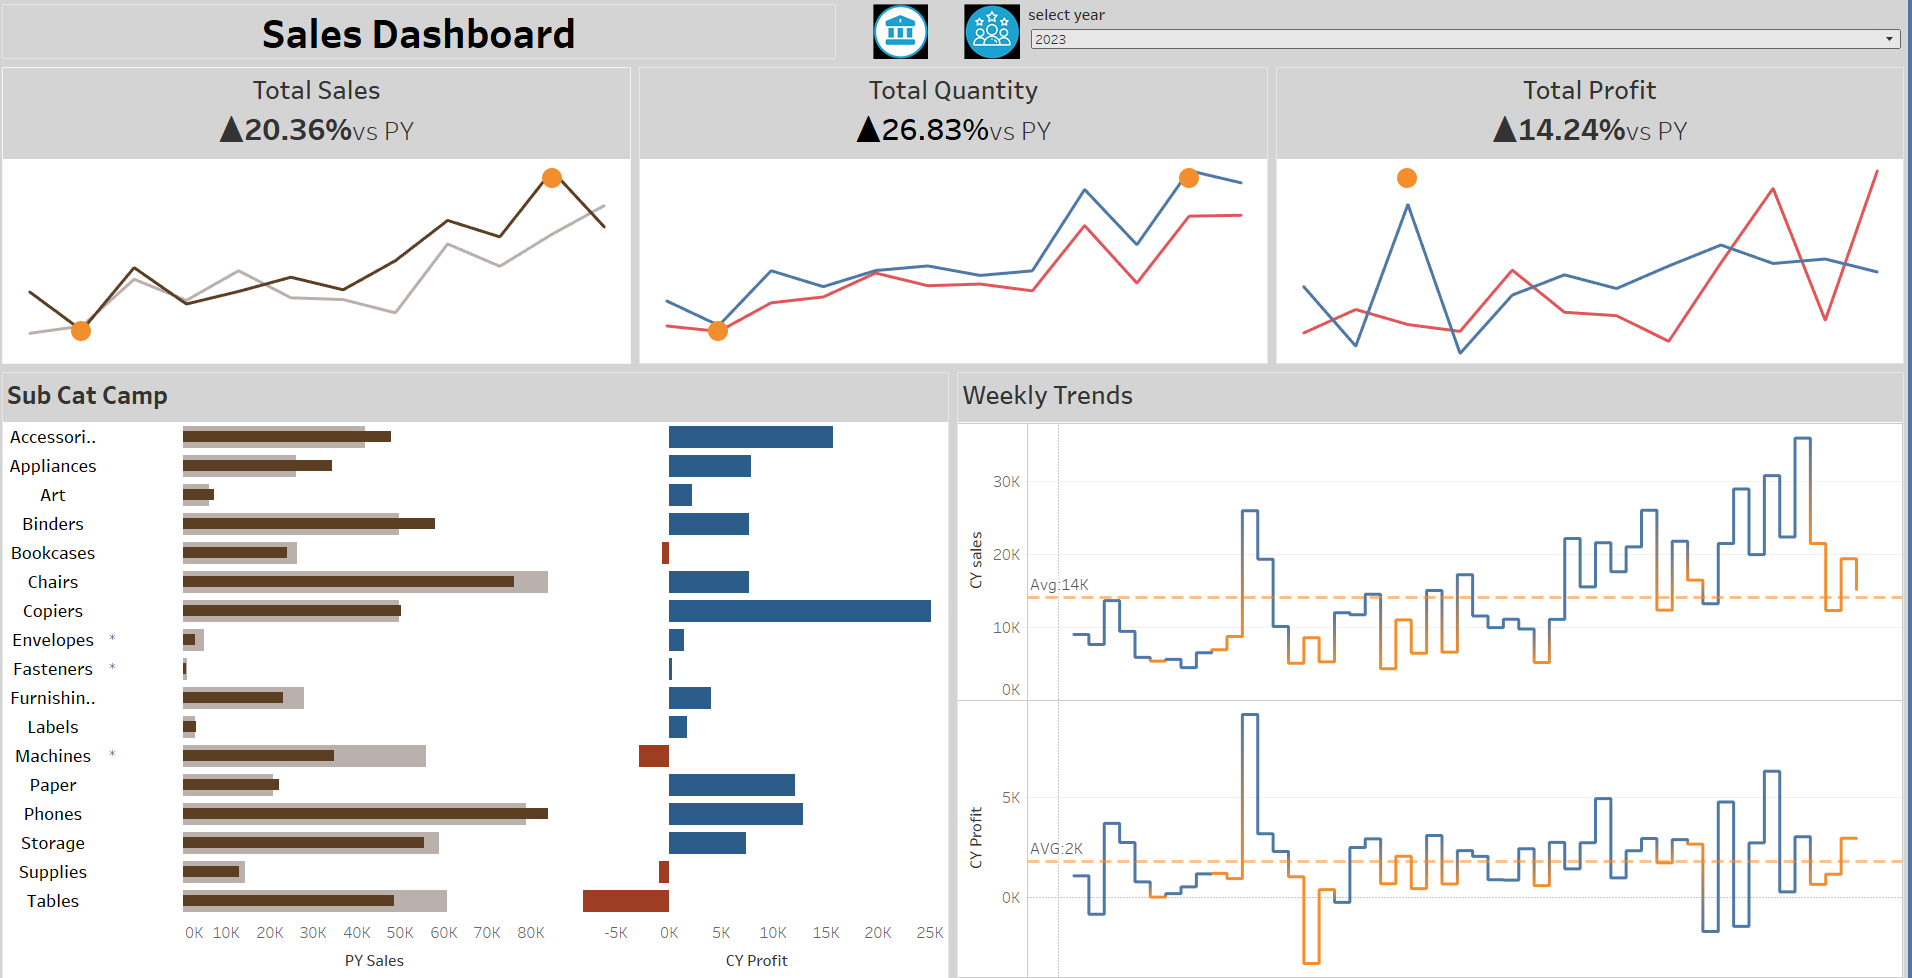

This screenshot's page, from the dashboard's own definition file:
{"tool":"tableau","page":{"name":"Dashboard 1","canvas":[1000,1000],"units":"permille","ordinal":0},"visuals":[{"type":"text","box":[3,6.2,508.2,78.7]},{"type":"dashboard-object","box":[511.2,6.2,72.4,78.7]},{"type":"dashboard-object","box":[583.6,6.2,38.6,78.7]},{"type":"parameter","param":"[Parameters].[Parameter 1]","box":[622.2,6.2,374.8,78.7]},{"type":"worksheet","title":"KPI Sales","mark":"Automatic","rows":["Calculation_323977718304661517"],"cols":["Order Date"],"box":[3,84.9,331.3,380.8]},{"type":"worksheet","title":"KPI Quantity","mark":"Automatic","rows":["Calculation_323977718304661517"],"cols":["Order Date"],"box":[334.3,84.9,331.3,380.8]},{"type":"worksheet","title":"KPI Profit ","mark":"Automatic","rows":["MIn/Max sales (copy)_478507481528025089"],"cols":["Order Date"],"box":[665.7,84.9,331.3,380.8]},{"type":"worksheet","title":"Sub category comp","mark":"Bar","rows":["Sub-Category","Calculation_478507481535262731"],"cols":["Calculation_323977718294622211","Calculation_323977718294204417","Calculation_323977718299521030"],"box":[3,465.7,497.3,528.1]},{"type":"worksheet","title":"Weekly Trends","mark":"Automatic","rows":["Calculation_323977718294204417","Calculation_323977718299521030"],"cols":["Order Date"],"box":[500.3,465.7,496.7,528.1]}]}

Visuals, with their boxes on the dashboard's canvas, which has no fixed pixel size, in thousandths of its width and height (x1, y1, x2, y2). These are canvas units, not pixel positions in the 1912x978 screenshot, which may show the page scaled, cropped or inside an application window:
text: (3, 6, 511, 85)
dashboard-object: (511, 6, 584, 85)
dashboard-object: (584, 6, 622, 85)
parameter: (622, 6, 997, 85)
"KPI Sales" worksheet: (3, 85, 334, 466)
"KPI Quantity" worksheet: (334, 85, 666, 466)
"KPI Profit " worksheet: (666, 85, 997, 466)
"Sub category comp" worksheet (Bar marks): (3, 466, 500, 994)
"Weekly Trends" worksheet: (500, 466, 997, 994)
